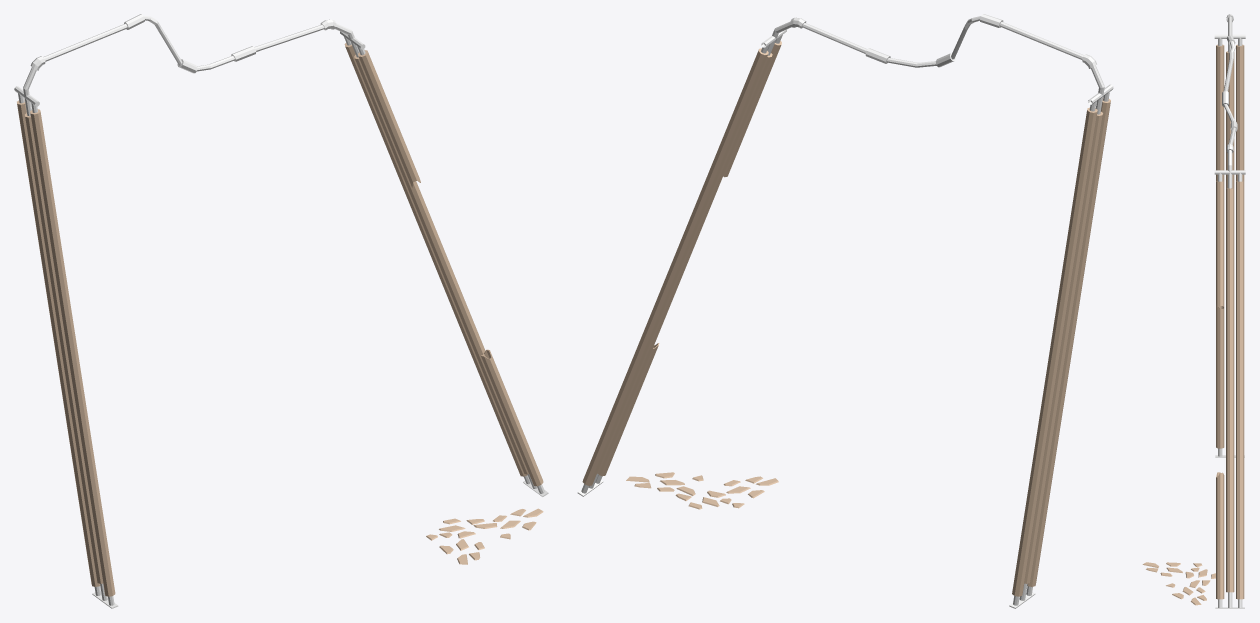
Rendered from SM_Ultraviolet_Lamp_Broken.glb.
3 renders of one model, left to right at view 1: azimuth 30°, elevation 25°; view 2: azimuth 150°, elevation 25°; view 3: azimuth 270°, elevation 25°, orthographic. The views are drawn at different scales.
Parts seen in each view (by area): view 1: SM_Ultraviolet_Lamp_Broken; view 2: SM_Ultraviolet_Lamp_Broken; view 3: SM_Ultraviolet_Lamp_Broken.
Boxes of the visible parts, <box> form: SM_Ultraviolet_Lamp_Broken: <box>14,14,548,608</box>; SM_Ultraviolet_Lamp_Broken: <box>577,14,1113,608</box>; SM_Ultraviolet_Lamp_Broken: <box>1142,14,1245,608</box>.
Size of the model in its own units: 2.24 by 2.4 by 0.5197.
